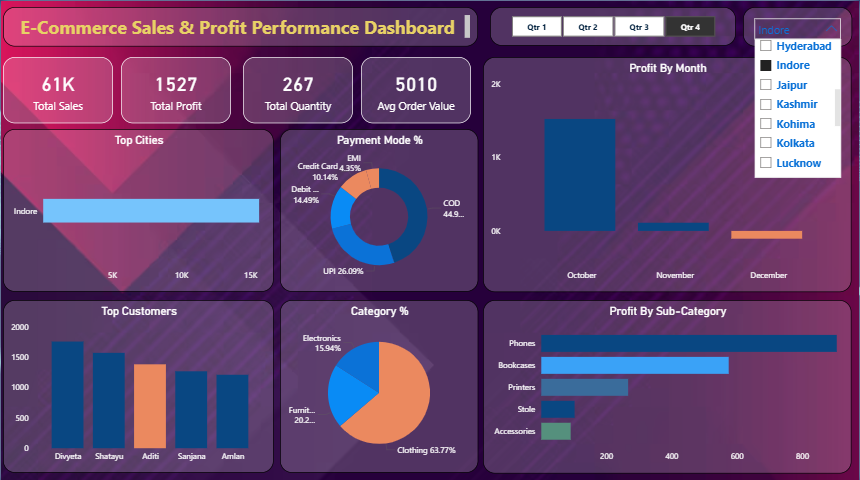

This screenshot's page, from the dashboard's own definition file:
{"tool":"powerbi","page":{"name":"Page 1","canvas":[1280,720],"ordinal":0},"visuals":[{"type":"textbox","box":[2.9,8.6,708.6,58.6],"z":0},{"type":"columnChart","title":"Profit By Month","fields":{"Category":["Orders.Order Date.Variation.Date Hierarchy.Month"],"Y":["Sum(Details.Profit)"]},"box":[720,82.9,550,351.4],"z":1000},{"type":"barChart","title":"Profit By Sub-Category","fields":{"Category":["Details.Sub-Category"],"Y":["Sum(Details.Profit)"]},"box":[720,445.7,550,258.6],"z":2000},{"type":"pieChart","title":"Category %","fields":{"Category":["Details.Category"],"Y":["CountNonNull(Details.Order ID)"]},"box":[416.4,446.3,295.5,258.2],"z":3000},{"type":"donutChart","title":"Payment Mode %","fields":{"Y":["CountNonNull(Details.Order ID)"],"Category":["Details.PaymentMode"]},"box":[415.7,191.4,295.7,242.9],"z":4000},{"type":"card","fields":{"Values":["Details.Total Sales"]},"box":[2.9,82.9,164.3,98.6],"z":5000},{"type":"barChart","title":"Top Cities","fields":{"Category":["Orders.City"],"Y":["Sum(Details.Amount)"]},"box":[2.9,191.4,404.3,242.9],"z":6000},{"type":"columnChart","title":"Top Customers","fields":{"Category":["Orders.CustomerName"],"Y":["Sum(Details.Amount)"]},"box":[3,446.3,404.5,258.2],"z":7000},{"type":"slicer","fields":{"Values":["Orders.Order Date.Variation.Date Hierarchy.Quarter"]},"box":[729.9,9,367.2,58.2],"z":8000},{"type":"slicer","fields":{"Values":["Orders.City"]},"box":[1107.1,8.6,162.9,58.6],"z":9000},{"type":"card","fields":{"Values":["Details.Total Profit"]},"box":[178.6,82.9,164.3,98.6],"z":10000},{"type":"card","fields":{"Values":["Details.Total Quantity"]},"box":[361.4,82.9,164.3,98.6],"z":11000},{"type":"card","fields":{"Values":["Details.Total AOV"]},"box":[537.1,82.9,164.3,98.6],"z":12000}]}

Visuals, with their boxes in screenshot pixels (x1, y1, x2, y2), scaled from the page's 1280x720 canvas onto the 860x480 screenshot:
textbox: box=[2, 6, 478, 45]
"Profit By Month" columnChart: box=[484, 55, 853, 290]
"Profit By Sub-Category" barChart: box=[484, 297, 853, 470]
"Category %" pieChart: box=[280, 298, 478, 470]
"Payment Mode %" donutChart: box=[279, 128, 478, 290]
card - Details.Total Sales: box=[2, 55, 112, 121]
"Top Cities" barChart: box=[2, 128, 274, 290]
"Top Customers" columnChart: box=[2, 298, 274, 470]
slicer - Orders.Order Date.Variation.Date Hierarchy.Quarter: box=[490, 6, 737, 45]
slicer - Orders.City: box=[744, 6, 853, 45]
card - Details.Total Profit: box=[120, 55, 230, 121]
card - Details.Total Quantity: box=[243, 55, 353, 121]
card - Details.Total AOV: box=[361, 55, 471, 121]
